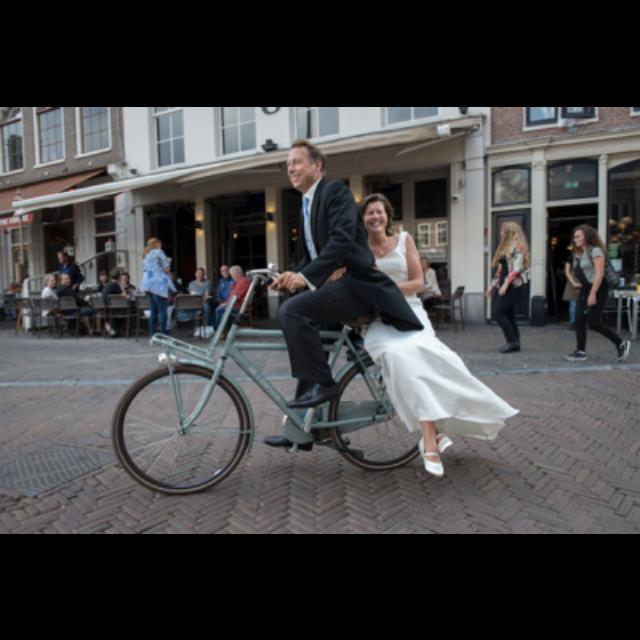Without Helmet: (282, 135, 328, 191)
